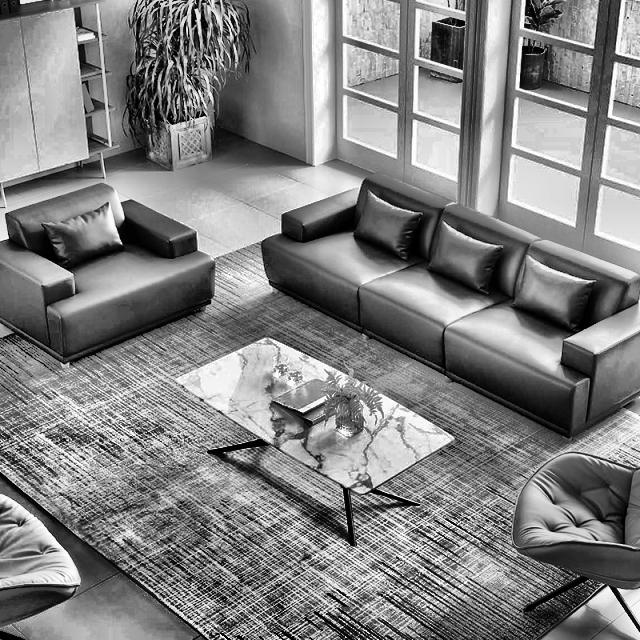sofa: (260, 171, 639, 443), (0, 180, 215, 370)
